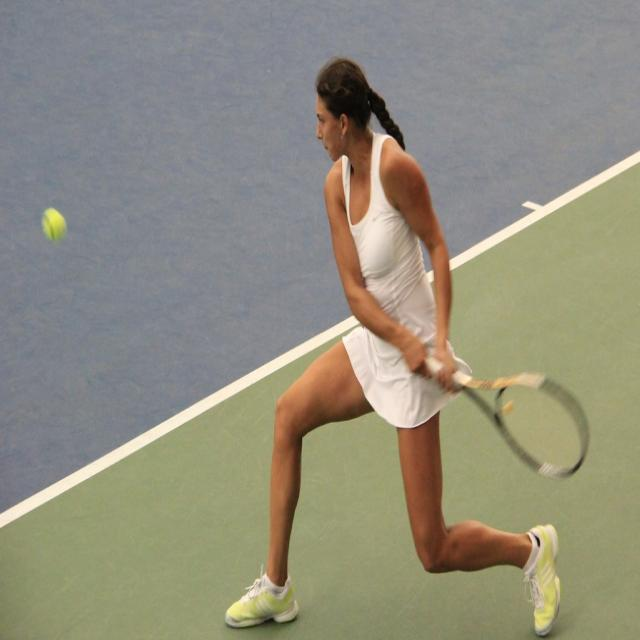Tennis-Ball: (39, 210, 68, 248)
